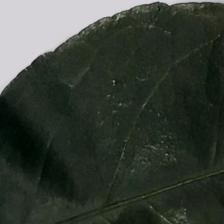healthy: (21, 22, 219, 218)
